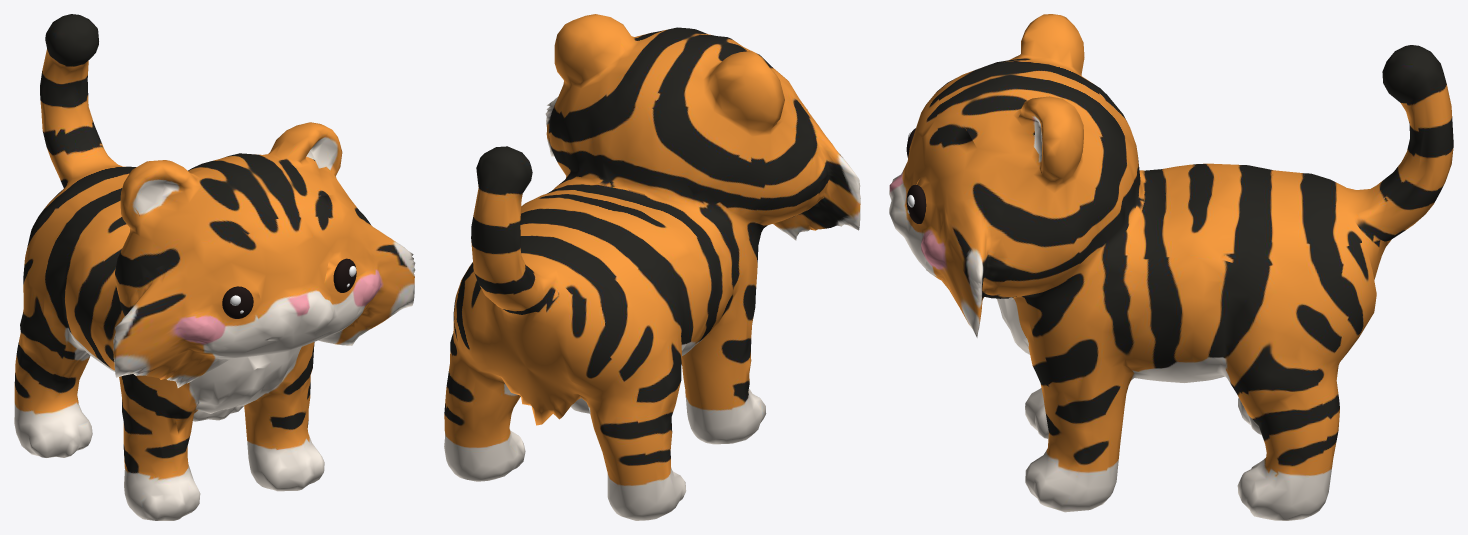
Rendered from tiger.glb.
3 views of the same model, side by side, from view 1: azimuth 30°, elevation 25°; view 2: azimuth 150°, elevation 25°; view 3: azimuth 270°, elevation 25° (orthographic). The views are drawn at different scales.
Visible parts, largest first — view 1: Mesh_0.001; view 2: Mesh_0.001; view 3: Mesh_0.001.
Boxes of the visible parts, <box> form: Mesh_0.001: <box>14,14,415,520</box>; Mesh_0.001: <box>444,14,860,520</box>; Mesh_0.001: <box>889,14,1453,520</box>.
Size of the model in its own units: 1.33 by 1.55 by 1.89.
Materials: 1 (1 with a texture image).
